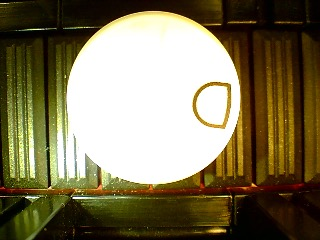MIPO1: (66, 11, 241, 184)
